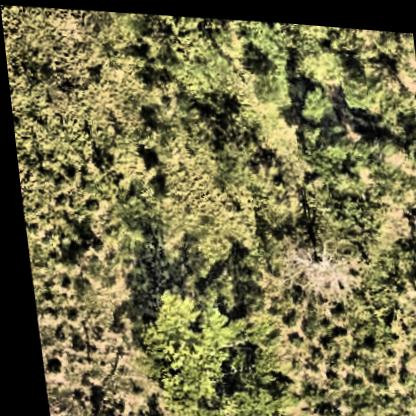tree-top: (128, 287, 245, 413), (301, 122, 394, 195), (138, 9, 237, 77), (272, 221, 351, 301), (194, 365, 299, 416), (313, 187, 384, 244), (234, 15, 299, 62), (201, 129, 251, 189), (297, 23, 346, 77), (329, 60, 380, 106), (294, 76, 340, 124), (248, 65, 290, 105), (390, 108, 416, 159)
